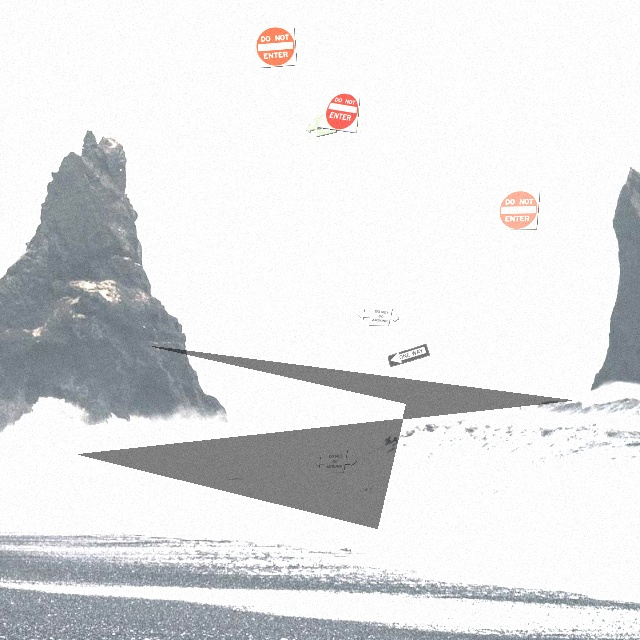DO_NOT_ENTER: (254, 25, 297, 68), (317, 91, 360, 133), (497, 190, 540, 230)
DO_NOT_GO_AROUND: (314, 449, 357, 473), (356, 304, 399, 326)
GO_AROUND: (305, 110, 348, 137)
ONE_WAY_ left: (387, 343, 430, 367)
